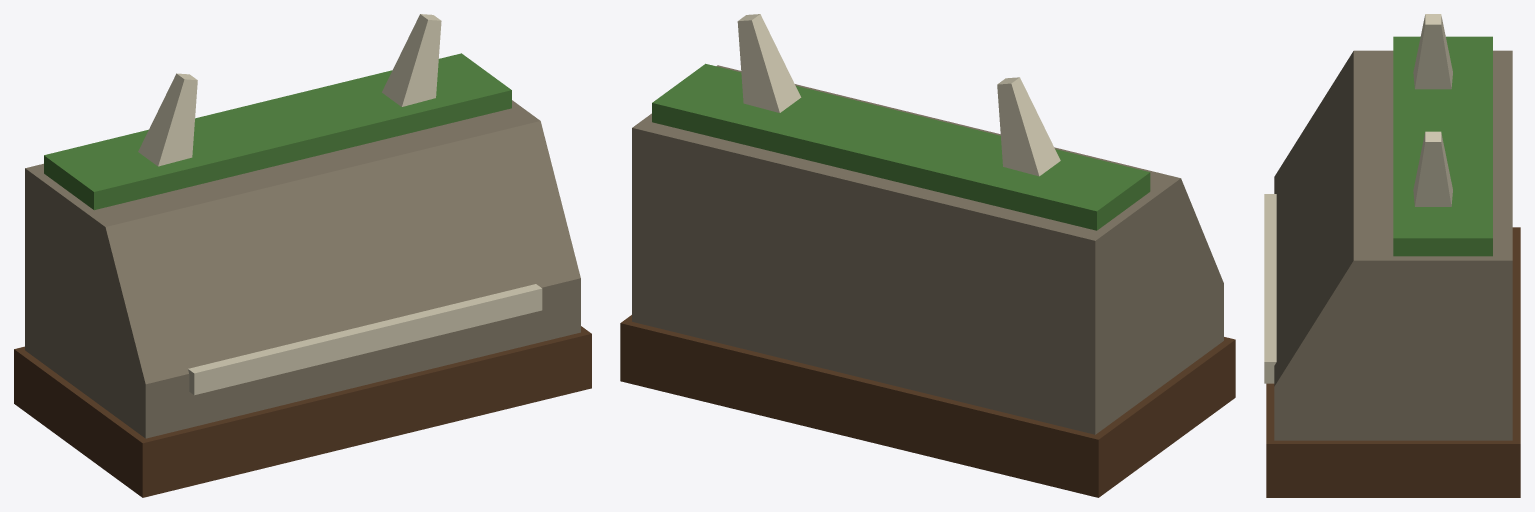
File: barrierA.glb
3 views of the same model, side by side, from view 1: azimuth 30°, elevation 25°; view 2: azimuth 150°, elevation 25°; view 3: azimuth 270°, elevation 25° (orthographic). The views are drawn at different scales.
Parts seen in each view (by area): view 1: dinoValley-barrierA; view 2: dinoValley-barrierA; view 3: dinoValley-barrierA.
Boxes of the visible parts, bbox=[...] form: dinoValley-barrierA: bbox=[14, 14, 591, 497]; dinoValley-barrierA: bbox=[620, 14, 1235, 497]; dinoValley-barrierA: bbox=[1264, 14, 1520, 497].
Bounding box in the file's own units: 0.258 × 0.1811 × 0.129.
